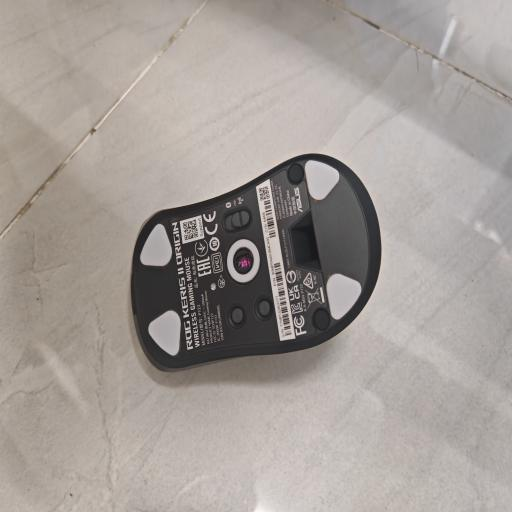mouse: (131, 154, 381, 370)
